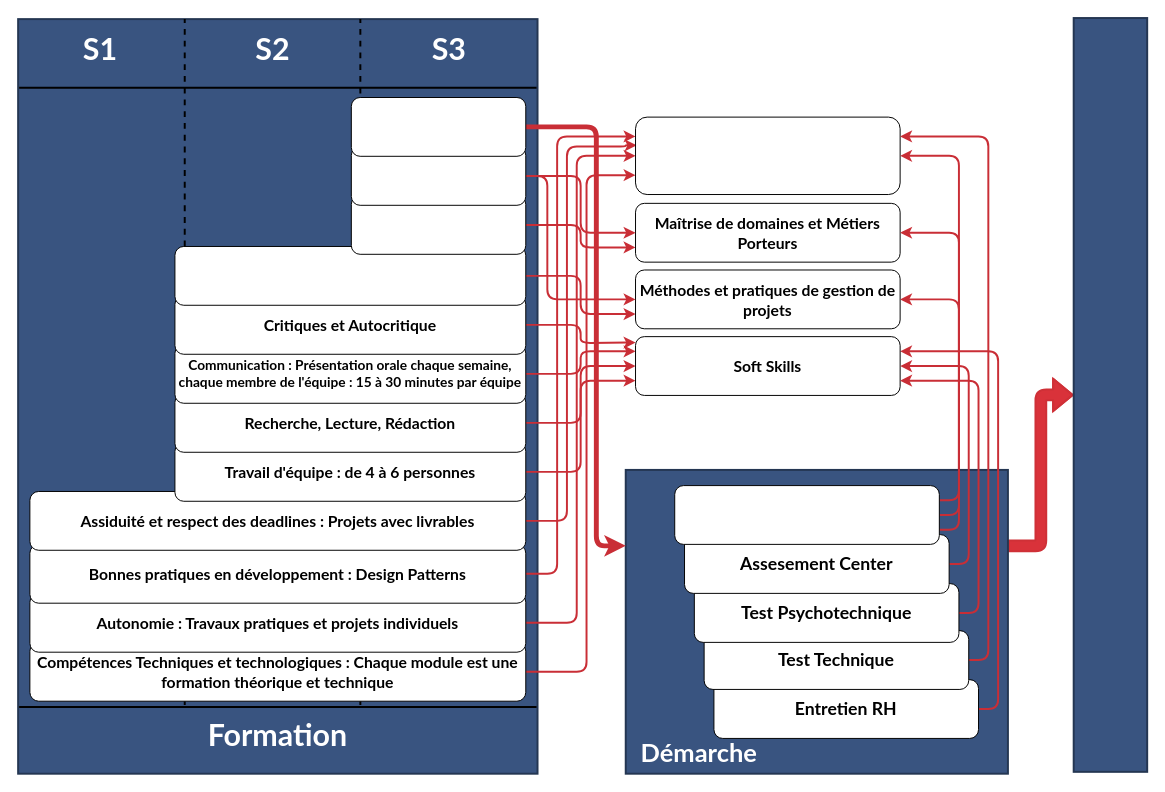
Image size: 1165x792. Some labels were removed from this diagram. Each missing label, with the box of its shape:
Bonne connaissance de l'entreprise: (350, 146, 526, 205)
Compétences Techniques et technologiques: (635, 116, 900, 195)
CV: (674, 485, 939, 544)
Entreprise: (1072, 17, 1148, 772)
Maîtrise des Métiers: (350, 195, 526, 254)
Méthodologies de travail + Méthodes Agile : Scrum: (174, 245, 526, 305)
Processus de recrutement en stage: (350, 97, 526, 156)
